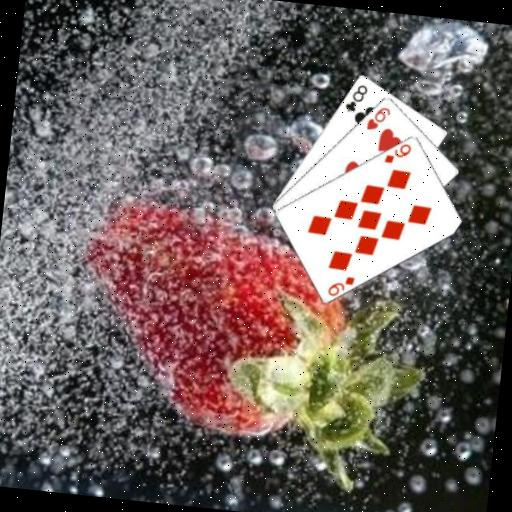6H: (363, 102, 393, 134)
8C: (341, 80, 369, 115)
9D: (324, 271, 357, 300), (381, 138, 414, 166)
